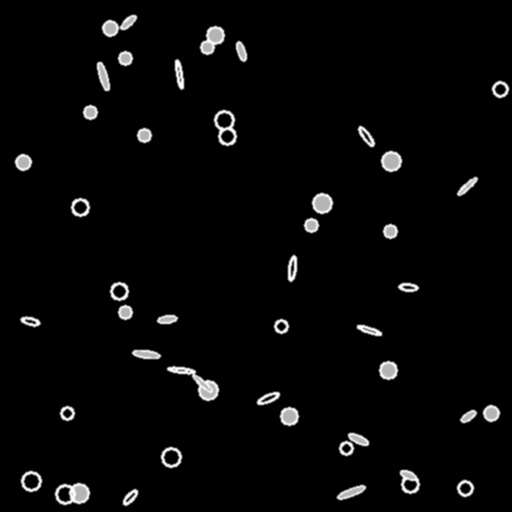pseudomonas: (337, 484, 365, 500), (356, 125, 376, 147), (191, 373, 213, 393), (456, 176, 478, 196), (96, 61, 110, 91), (257, 390, 279, 406), (119, 13, 137, 31), (356, 324, 382, 336), (122, 488, 138, 506), (348, 432, 368, 446), (132, 349, 160, 359), (174, 60, 184, 88), (399, 468, 417, 482), (459, 409, 477, 423), (235, 41, 247, 61), (20, 315, 40, 327), (287, 256, 297, 280), (168, 366, 194, 374), (157, 315, 177, 323), (398, 283, 418, 291)
synechocystis: (162, 448, 180, 466), (22, 472, 40, 490), (313, 194, 331, 212), (215, 111, 233, 129), (199, 381, 217, 399), (382, 152, 400, 170), (70, 484, 88, 502), (56, 485, 74, 503), (207, 27, 223, 43), (402, 476, 418, 492), (281, 408, 297, 424), (72, 199, 88, 215), (219, 128, 235, 144), (380, 362, 396, 378), (111, 283, 127, 299), (493, 82, 507, 96), (484, 406, 498, 420), (458, 481, 472, 495), (103, 21, 117, 35), (16, 155, 30, 169), (119, 306, 131, 318), (275, 320, 287, 332), (340, 442, 352, 454), (84, 106, 96, 118), (384, 225, 396, 237), (119, 52, 131, 64), (201, 41, 213, 53), (305, 219, 317, 231), (138, 129, 150, 141), (61, 407, 73, 419)
